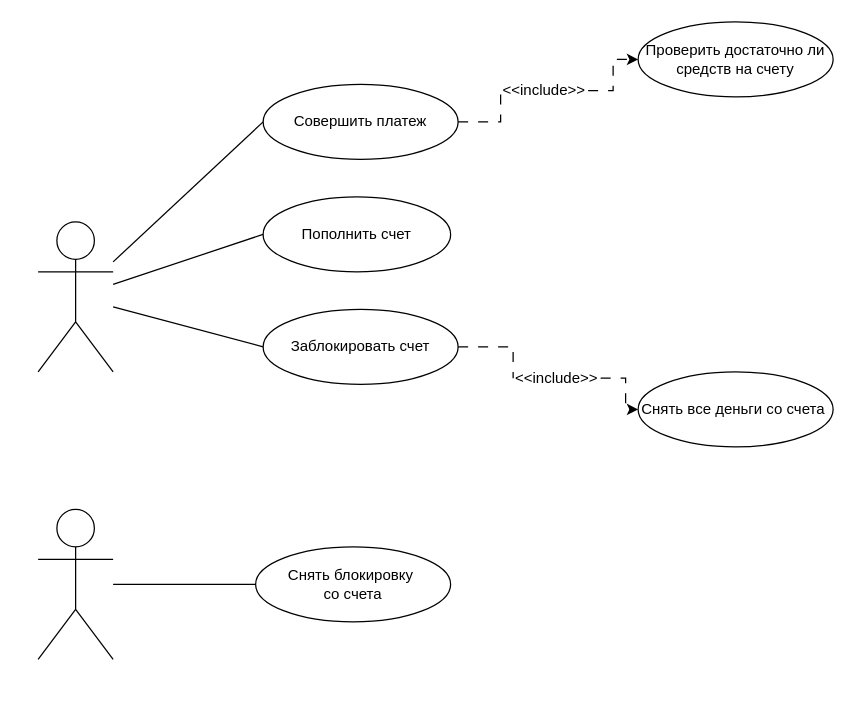
Image size: 855x708. Some labels were removed from this diagram. Each missing label, with the centre of its shape:
Администратор: point 75,583
Клиент: point 75,296
